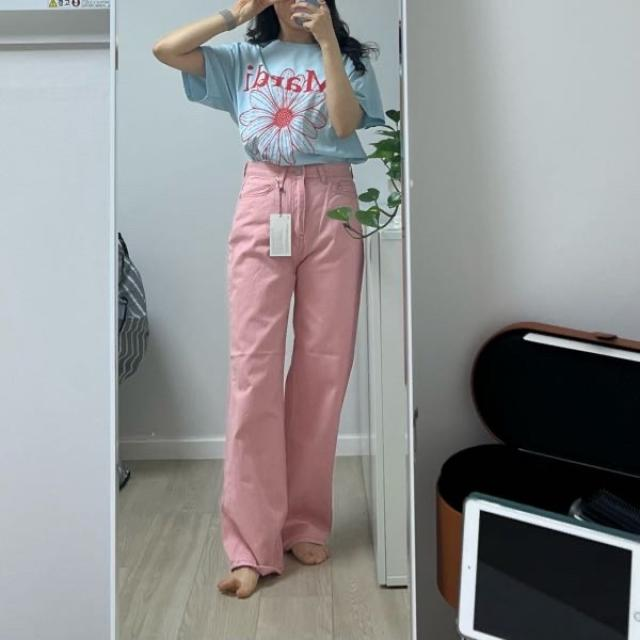cottonpants: (219, 154, 367, 580)
shortsleeve: (181, 38, 386, 167)
